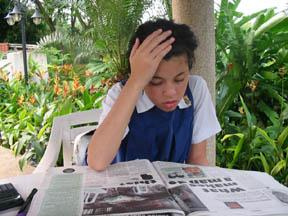person: (86, 19, 223, 172)
